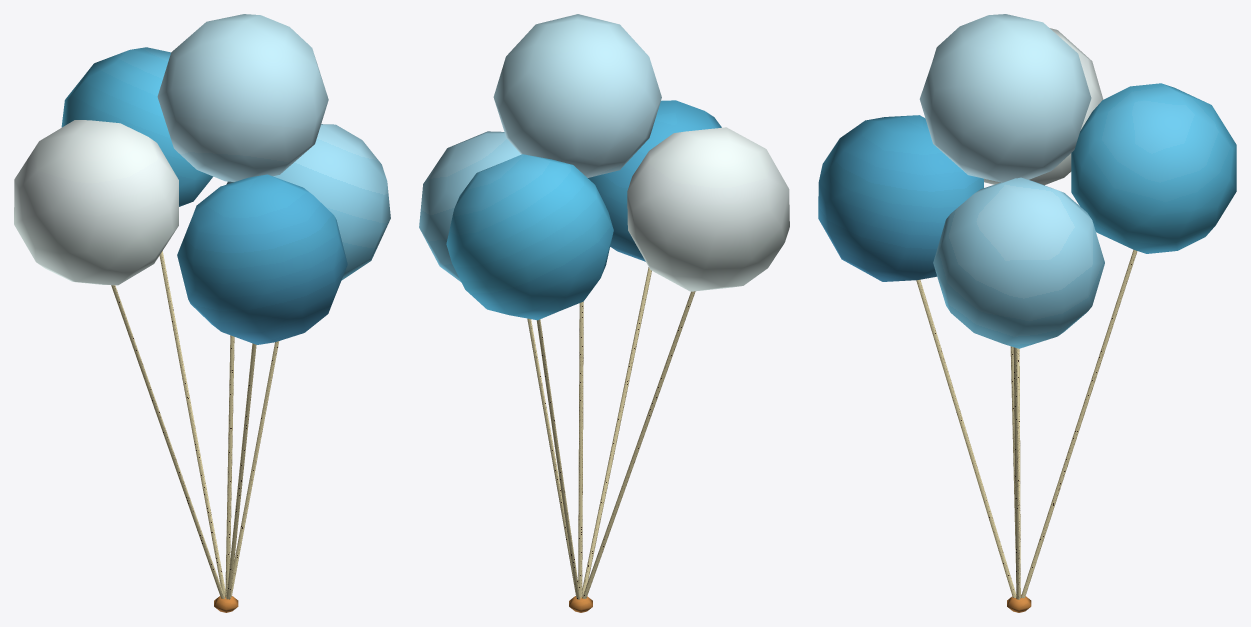
Rendered from Prop_Balloon_01_Persistent.glb.
The picture shows the model from 3 angles, left to right: view 1: azimuth 30°, elevation 25°; view 2: azimuth 150°, elevation 25°; view 3: azimuth 270°, elevation 25°; orthographic projection. The views are drawn at different scales.
Visible parts, largest first — view 1: Prop_Balloon_01_Persistent; view 2: Prop_Balloon_01_Persistent; view 3: Prop_Balloon_01_Persistent.
Part boxes in pixels (left/top/right/bottom): Prop_Balloon_01_Persistent: left=14, top=14, right=390, bottom=612; Prop_Balloon_01_Persistent: left=419, top=14, right=789, bottom=612; Prop_Balloon_01_Persistent: left=818, top=14, right=1236, bottom=612.
Bounding box in the file's own units: 3.96 × 6.25 × 3.99.
1 material, 1 textured.
